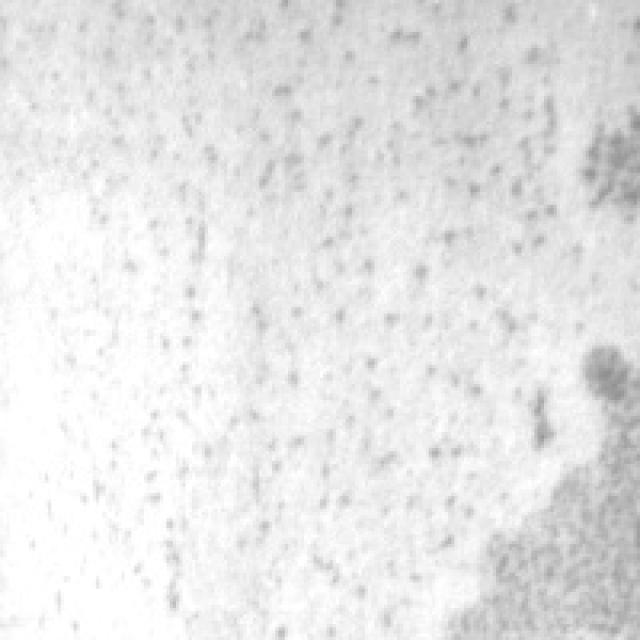pitted_surface: (6, 0, 634, 637)
